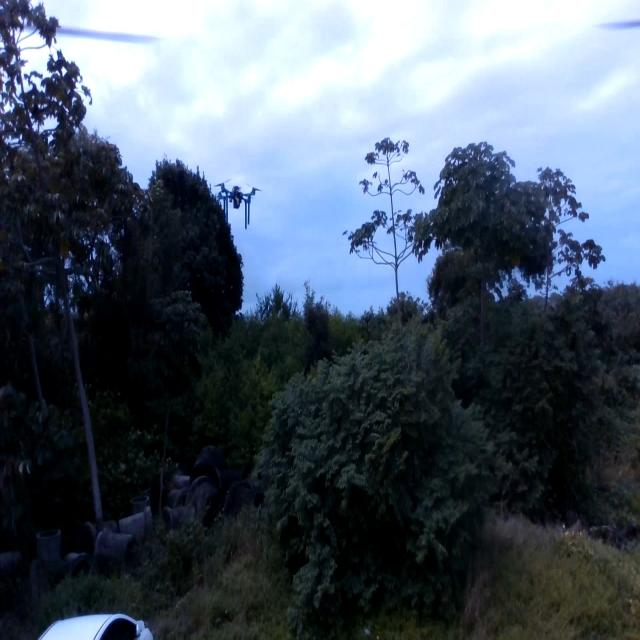-uav-: (212, 166, 262, 231)
